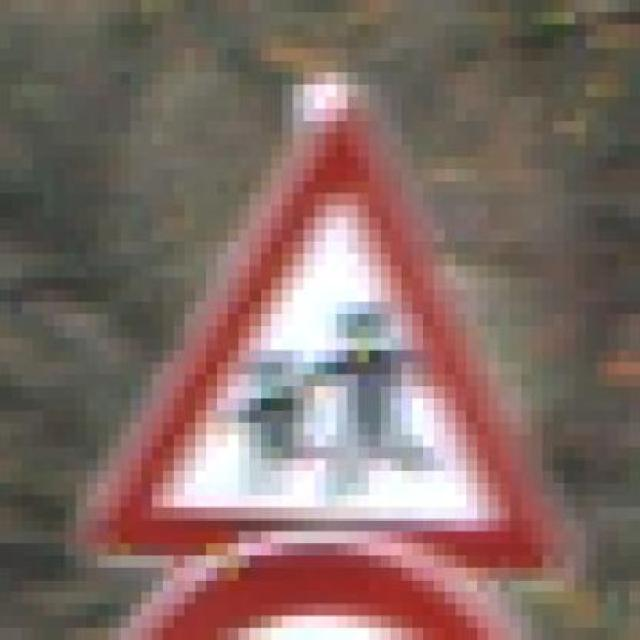Beware of children: (65, 60, 586, 592)
